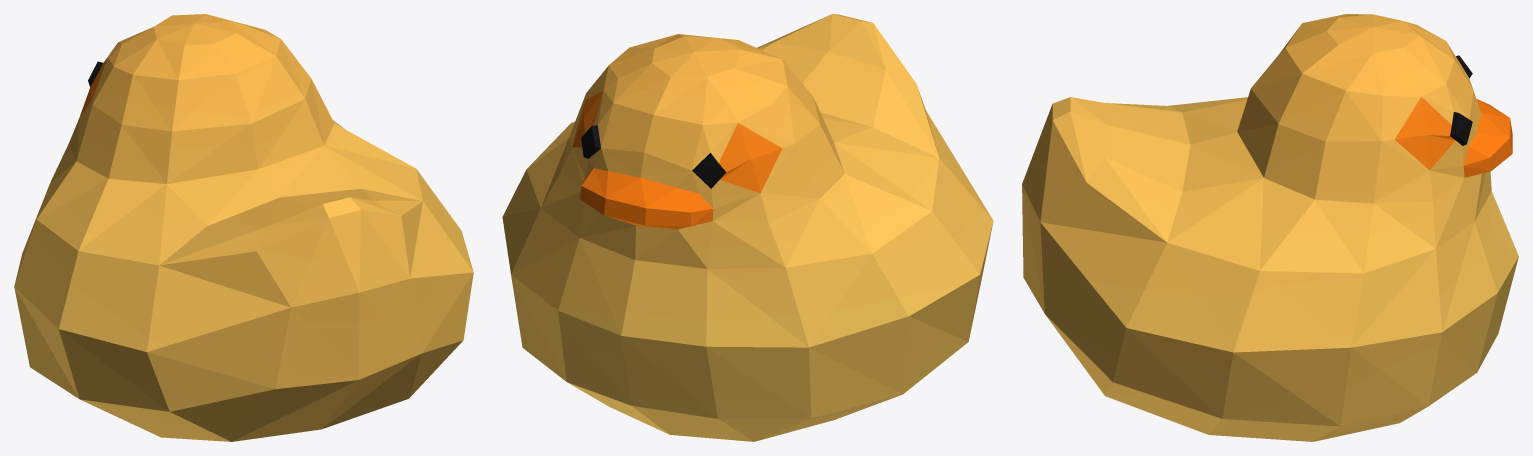
File: CharSkyKid_Hat_FriendshipMiniDuck.glb
The picture shows the model from 3 angles, left to right: view 1: azimuth 30°, elevation 25°; view 2: azimuth 150°, elevation 25°; view 3: azimuth 270°, elevation 25°; orthographic projection. The views are drawn at different scales.
Parts seen in each view (by area): view 1: CharSkyKid_Hat_FriendshipMiniDuck; view 2: CharSkyKid_Hat_FriendshipMiniDuck; view 3: CharSkyKid_Hat_FriendshipMiniDuck.
Boxes of the visible parts, x1,y1,x2,y2 form: CharSkyKid_Hat_FriendshipMiniDuck: [14, 14, 473, 441]; CharSkyKid_Hat_FriendshipMiniDuck: [502, 14, 993, 441]; CharSkyKid_Hat_FriendshipMiniDuck: [1022, 14, 1518, 441].
Size of the model in its own units: 1.36 by 1.13 by 1.37.
Materials: 1 (1 with a texture image).
